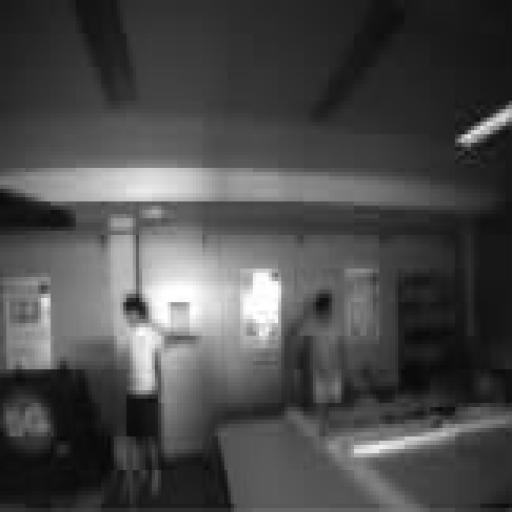human: (124, 294, 164, 495), (301, 290, 344, 428)
